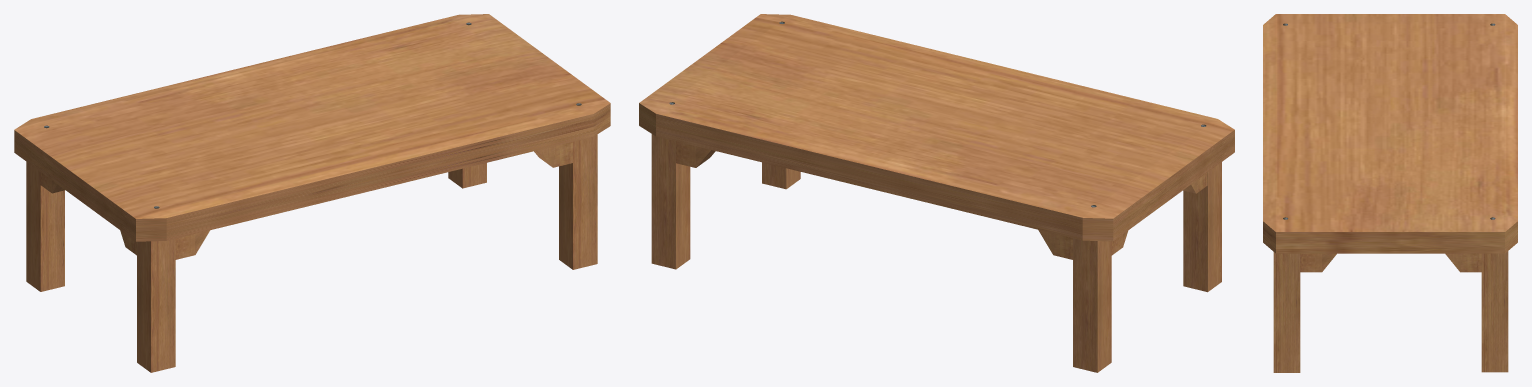
The model's file is lowpoly_table_3d_model.glb.
3 renders of one model, left to right at view 1: azimuth 30°, elevation 25°; view 2: azimuth 150°, elevation 25°; view 3: azimuth 270°, elevation 25°, orthographic. The views are drawn at different scales.
Parts seen in each view (by area): view 1: Cube, Cube.001, Cube.003, Cube.005, Cube.002, Cube.006, Cube.008; view 2: Cube, Cube.005, Cube.002, Cube.001, Cube.003, Cube.009, Cube.011; view 3: Cube, Cube.002, Cube.003, Cube.004, Cube.010.
Part boxes in pixels (bbox=[...]): Cube: bbox=[14, 14, 610, 241]; Cube.001: bbox=[137, 238, 175, 372]; Cube.003: bbox=[559, 134, 597, 269]; Cube.005: bbox=[26, 162, 64, 291]; Cube.002: bbox=[448, 163, 486, 188]; Cube.006: bbox=[534, 142, 572, 167]; Cube.008: bbox=[175, 230, 209, 259]; Cube: bbox=[639, 14, 1234, 241]; Cube.005: bbox=[1073, 238, 1111, 372]; Cube.002: bbox=[651, 134, 690, 269]; Cube.001: bbox=[1183, 162, 1221, 292]; Cube.003: bbox=[762, 162, 800, 189]; Cube.009: bbox=[676, 141, 715, 167]; Cube.011: bbox=[1038, 229, 1072, 259]; Cube: bbox=[1263, 14, 1517, 253]; Cube.002: bbox=[1481, 251, 1508, 372]; Cube.003: bbox=[1273, 252, 1300, 372]; Cube.004: bbox=[1300, 253, 1336, 272]; Cube.010: bbox=[1445, 253, 1481, 272].
Size of the model in its own units: 9.68 by 3.08 by 4.78.
Materials: 17 (17 with a texture image).
